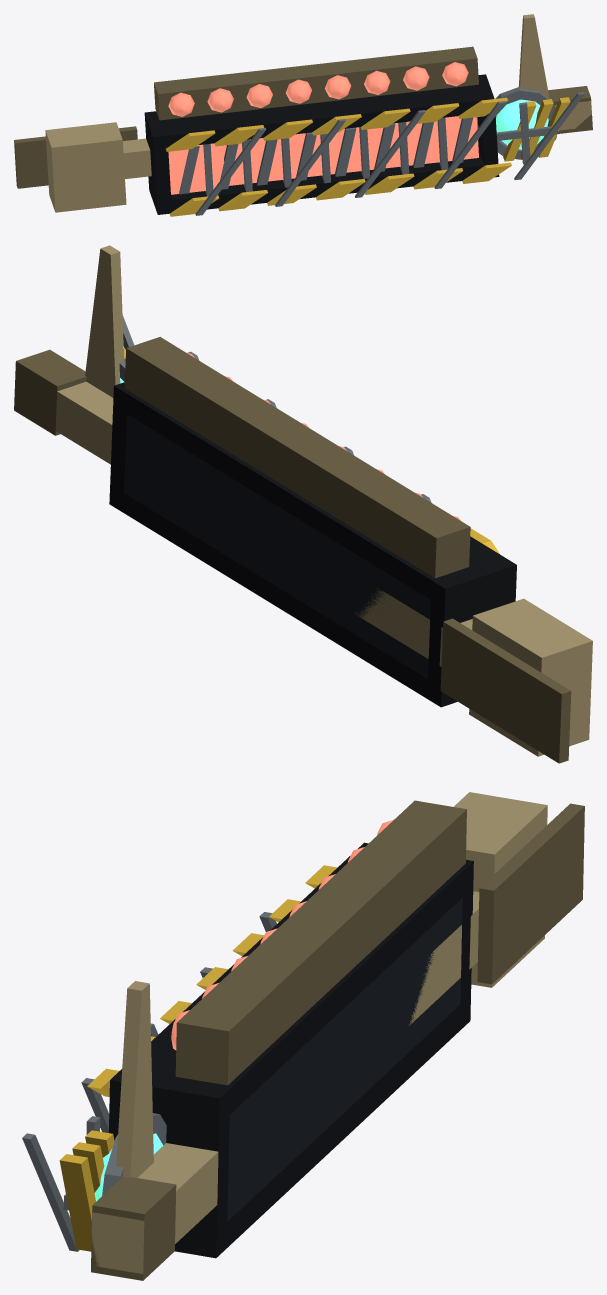
File: mast.glb
The picture shows the model from 3 angles, top to bottom: view 1: azimuth 30°, elevation 25°; view 2: azimuth 150°, elevation 25°; view 3: azimuth 270°, elevation 25°; orthographic projection. The views are drawn at different scales.
Visible parts, largest first — view 1: mta_mast_lampbar, mta_mast_bezel_t, mta_mast_collar, mta_mast_bezel_b, mta_mast_foot, mta_mast_vane, mta_mast_sweep, mta_mast_rod, mta_mast_bezel_l, mta_mast_bezel_r, mta_mast_cap, mta_mast_seg_2 (+55 smaller); view 2: mta_mast_lampbar, mta_mast_bore, mta_mast_bezel_t, mta_mast_foot, mta_mast_collar, mta_mast_bezel_b, mta_mast_rod, mta_mast_vane, mta_mast_knob, mta_mast_bezel_l, mta_mast_bezel_r; view 3: mta_mast_lampbar, mta_mast_bore, mta_mast_foot, mta_mast_rod, mta_mast_bezel_t, mta_mast_bezel_r, mta_mast_bezel_b, mta_mast_vane, mta_mast_collar, mta_mast_knob, mta_mast_capstripe_2, mta_mast_scrim_4 (+4 smaller).
Part boxes in pixels (x1,y1,x2,y2): mta_mast_lampbar: (154, 46, 478, 120); mta_mast_bezel_t: (144, 83, 489, 149); mta_mast_collar: (45, 122, 126, 212); mta_mast_bezel_b: (148, 151, 498, 214); mta_mast_foot: (14, 126, 137, 188); mta_mast_vane: (518, 14, 549, 120); mta_mast_sweep: (168, 143, 224, 194); mta_mast_rod: (122, 101, 591, 178); mta_mast_bezel_l: (145, 126, 171, 214); mta_mast_bezel_r: (475, 74, 499, 176); mta_mast_cap: (496, 99, 548, 149); mta_mast_seg_2: (250, 138, 283, 183); mta_mast_lampbar: (124, 337, 470, 578); mta_mast_bore: (124, 414, 430, 678); mta_mast_bezel_t: (113, 385, 516, 608); mta_mast_foot: (440, 618, 571, 763); mta_mast_collar: (469, 598, 592, 756); mta_mast_bezel_b: (109, 484, 457, 707); mta_mast_rod: (55, 381, 472, 666); mta_mast_vane: (85, 245, 124, 397); mta_mast_knob: (14, 349, 86, 435); mta_mast_bezel_l: (427, 564, 516, 706); mta_mast_bezel_r: (109, 382, 131, 512); mta_mast_lampbar: (175, 800, 466, 1085); mta_mast_bore: (227, 898, 462, 1221); mta_mast_foot: (477, 803, 584, 984); mta_mast_rod: (91, 891, 479, 1273); mta_mast_bezel_t: (110, 843, 473, 1124); mta_mast_bezel_r: (109, 1070, 230, 1257); mta_mast_bezel_b: (175, 995, 470, 1258); mta_mast_vane: (116, 981, 153, 1177); mta_mast_collar: (454, 792, 547, 987); mta_mast_knob: (91, 1177, 176, 1280); mta_mast_capstripe_2: (59, 1154, 95, 1251); mta_mast_scrim_4: (22, 1133, 79, 1251).
Size of the model in its own units: 0.1134 by 0.0377 by 0.0592.
